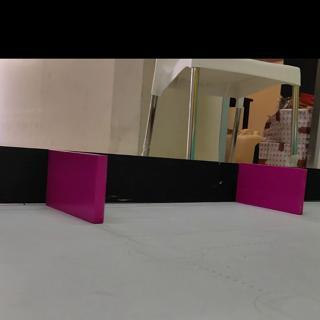xparking: (47, 154, 105, 226), (241, 167, 305, 216)
